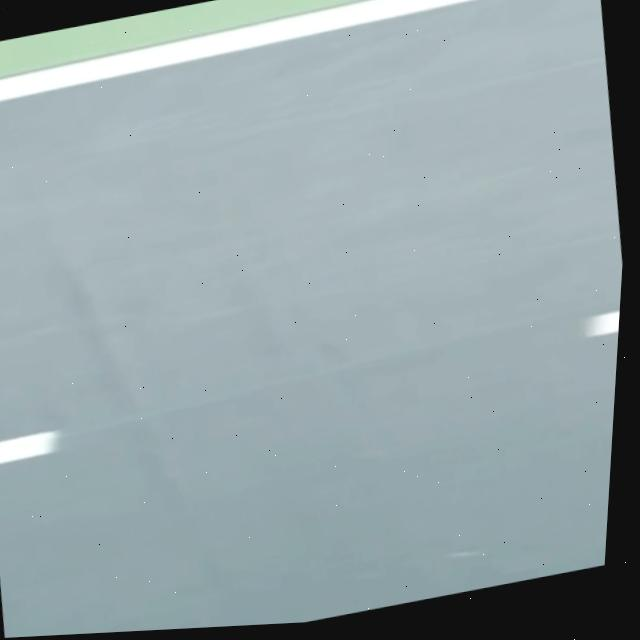center: (0, 431, 59, 465), (585, 311, 620, 337)
